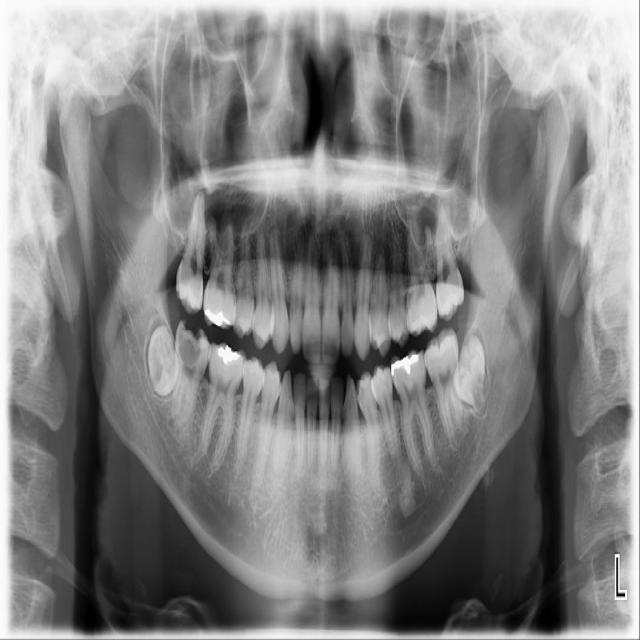Caries: (178, 325, 202, 369)
Filling: (200, 306, 231, 331), (389, 353, 421, 377), (214, 341, 240, 368)
